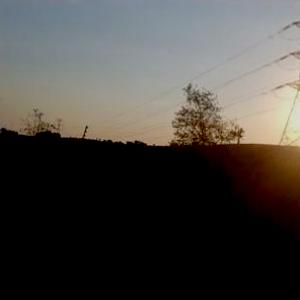follow: (141, 149, 204, 299)
